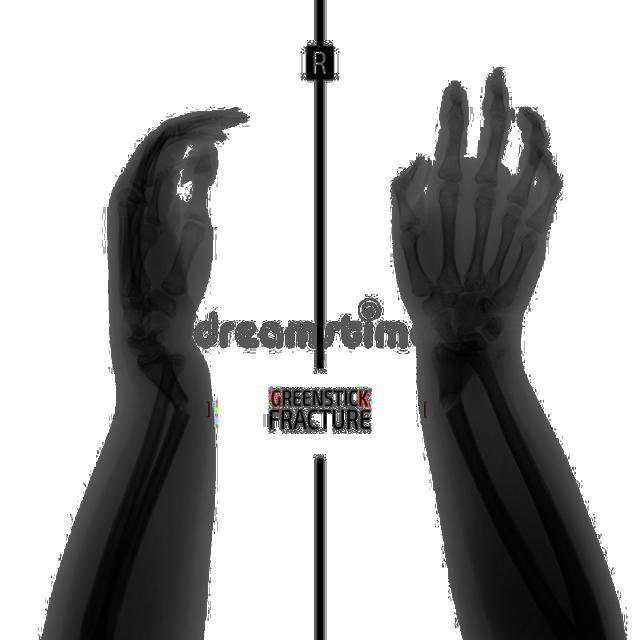GreenStick Fracture: (164, 394, 201, 424), (436, 390, 466, 422)
